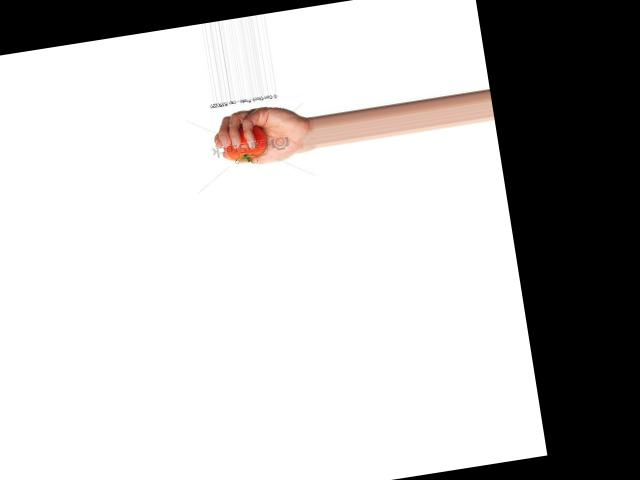tomato: (220, 121, 267, 164)
